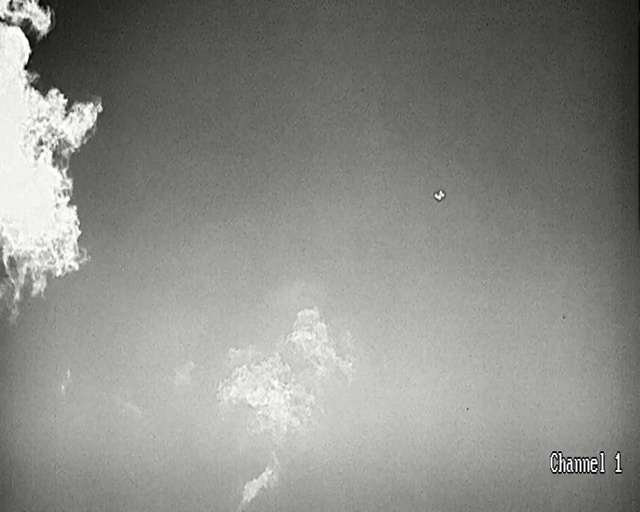uav: (433, 189, 445, 200)
